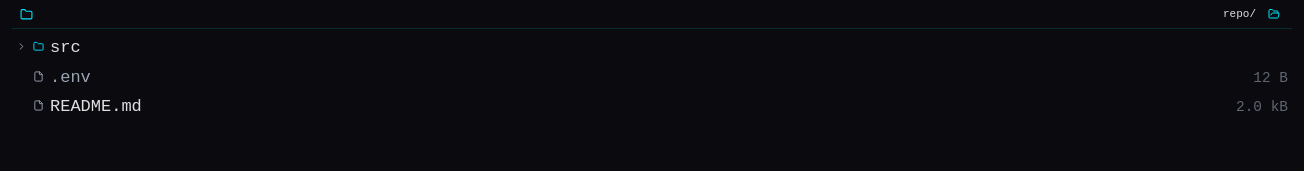
it: what a path can be opened as › offers neither viewing nor opening for a directory
The width and height of the screenshot is (1304, 171).
Right-click the button "src" at coordinates (65, 48), box [12,33,1292,62]
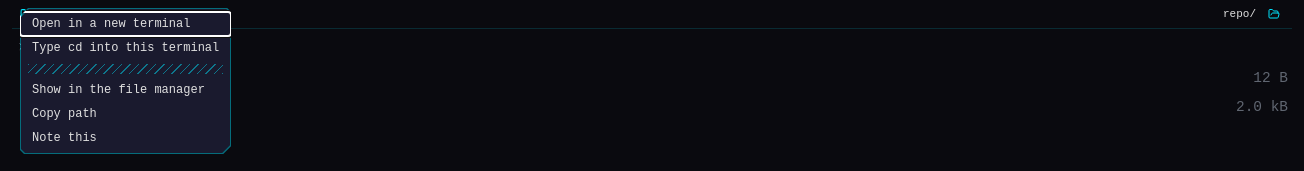
Now the menu is shown, box [20,8,231,154]
